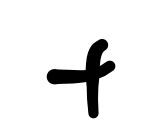plus: (47, 39, 115, 118)
